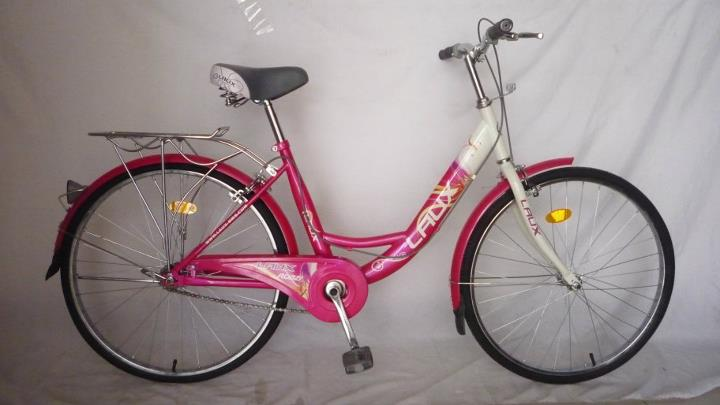bicycle: (41, 29, 678, 389)
